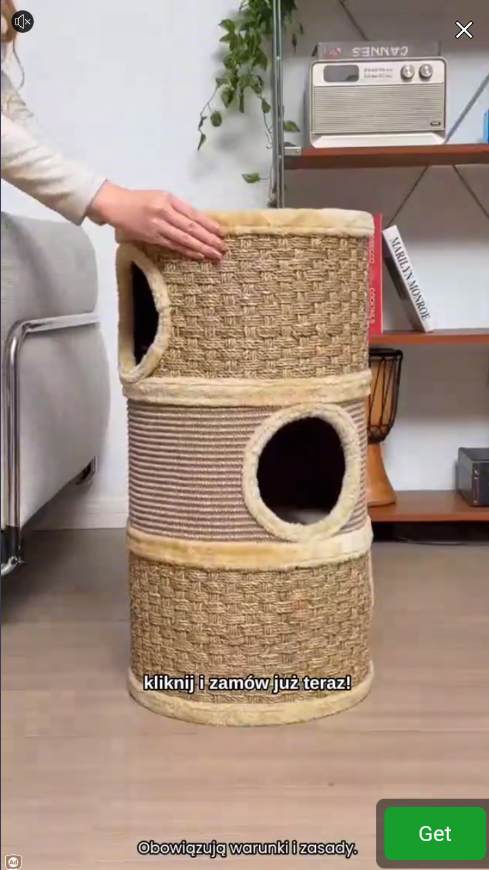close_button: (453, 18, 475, 41)
